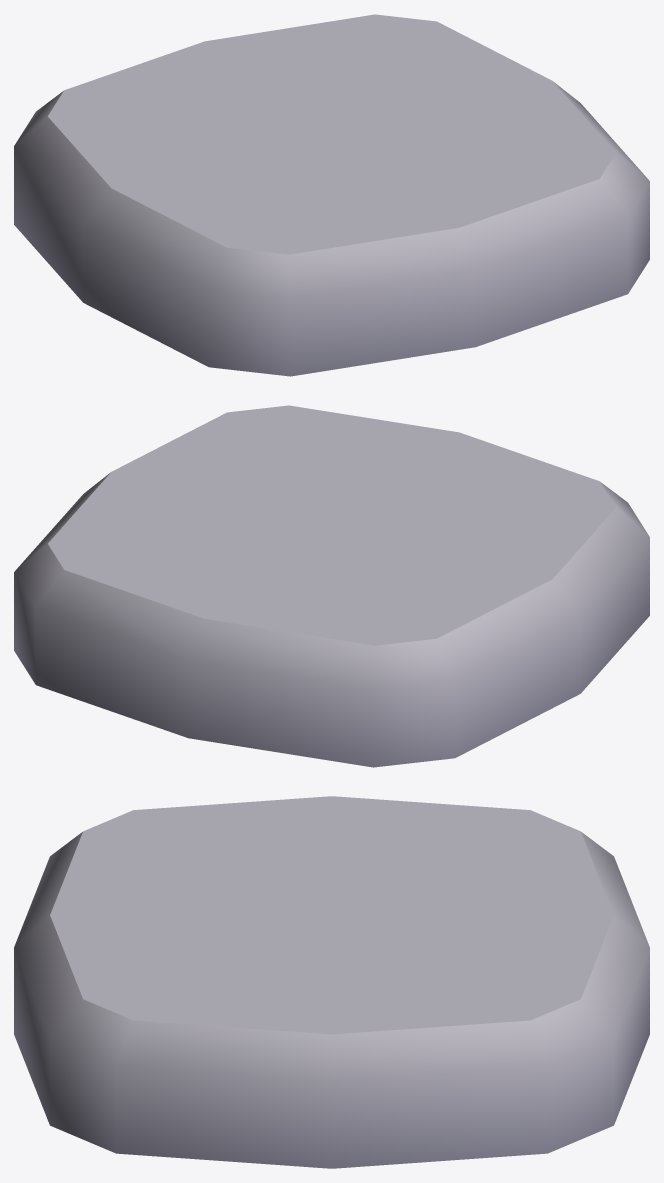
The model's file is (%no-merge) lid 2.glb.
3 views of the same model, one above another, from view 1: azimuth 30°, elevation 25°; view 2: azimuth 150°, elevation 25°; view 3: azimuth 270°, elevation 25° (orthographic). The views are drawn at different scales.
Visible parts, largest first — view 1: (%no-merge) lid 2; view 2: (%no-merge) lid 2; view 3: (%no-merge) lid 2.
Boxes of the visible parts, x1=… form: (%no-merge) lid 2: x1=14, y1=14, x2=649, y2=376; (%no-merge) lid 2: x1=14, y1=405, x2=649, y2=767; (%no-merge) lid 2: x1=14, y1=796, x2=649, y2=1168.
Size of the model in its own units: 0.3576 by 0.0739 by 0.3576.
